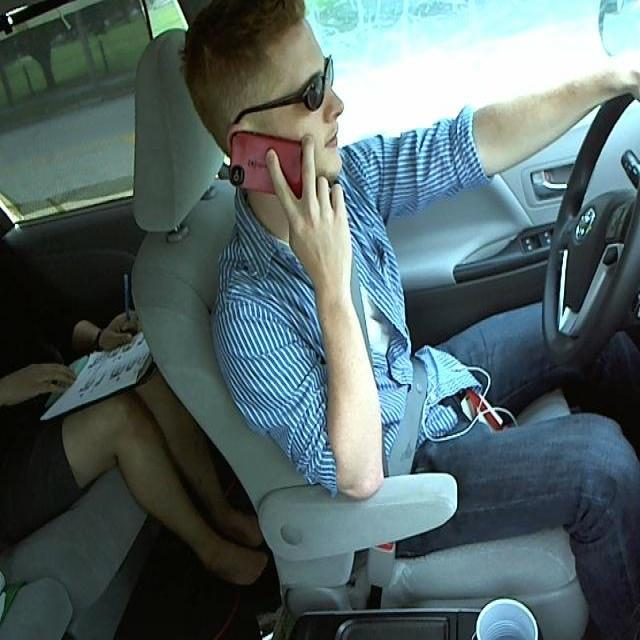using_phone: (157, 12, 370, 226)
